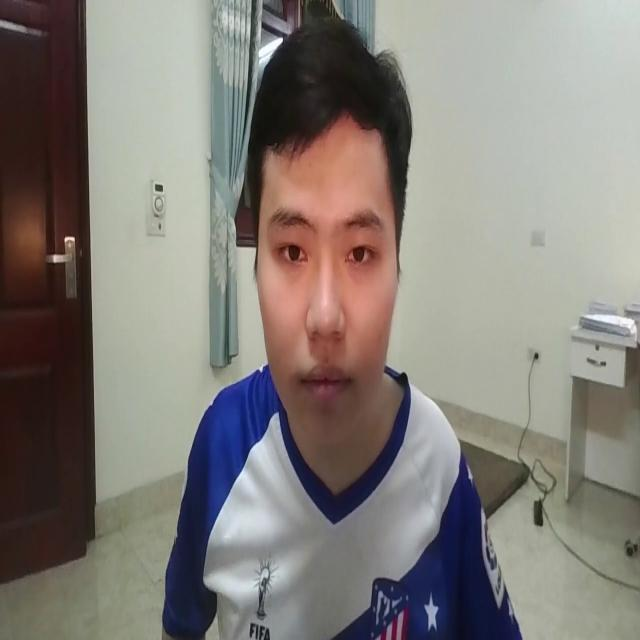student: (144, 2, 536, 640)
